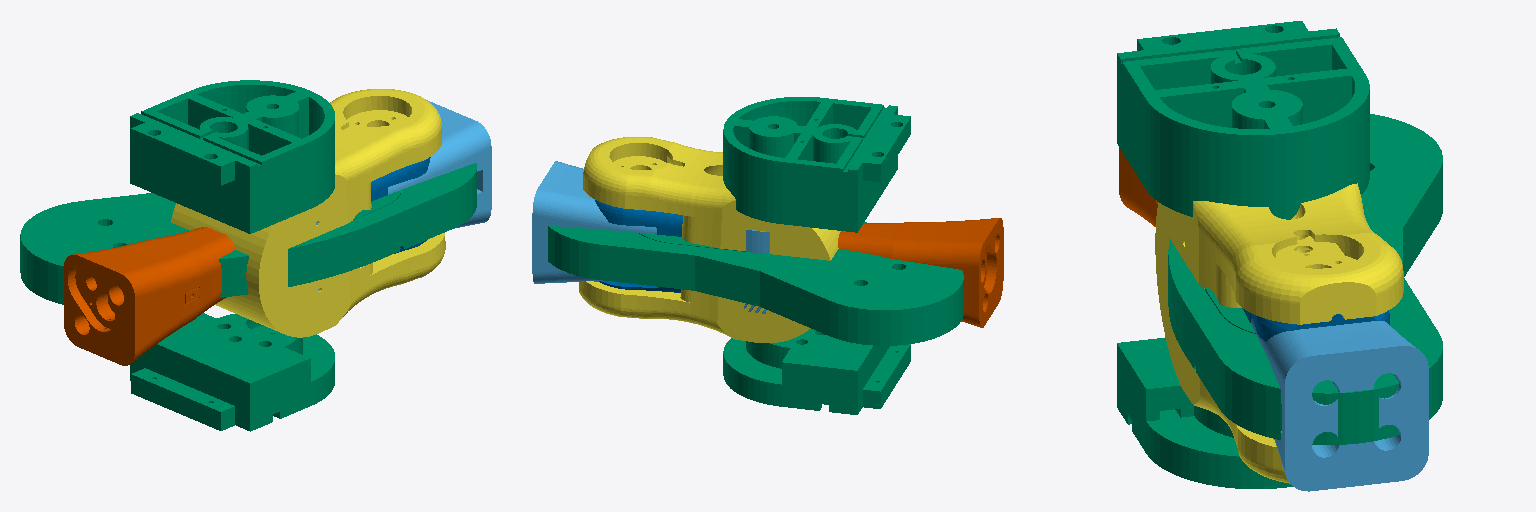
The robot description file, URDF, robot "tr1":
<robot name="tr1">
	<link name="base_link">
		<visual>
			<geometry>
        <mesh filename="package://tr1_description/meshes/base.dae" scale="0.1 0.1 0.1"/>
			</geometry>
			<origin rpy="0 0 3.1415" xyz="0.31 0.4595 -0.1115"/>
		</visual>
	</link>

	<link name="body_link">
		<visual>
			<geometry>
        <mesh filename="package://tr1_description/meshes/body.dae" scale="0.1 0.1 0.1"/>
			</geometry>
			<origin rpy="0 0 0" xyz="-0.3975 -0.17 -0.038"/>
		</visual>
	</link>

	<link name="arm1_link">
		<visual>
			<geometry>
        <mesh filename="package://tr1_description/meshes/arm1.dae" scale="0.1 0.1 0.1"/>
			</geometry>
			<origin rpy="1.5708 0 0" xyz="-0.073 0.0238 -0.14"/>
		</visual>
	</link>

	<link name="arm2_link">
		<visual>
			<geometry>
        <mesh filename="package://tr1_description/meshes/arm2.dae" scale="0.1 0.1 0.1"/>
			</geometry>
			<origin rpy="0 0 0" xyz="0 0 0"/>
		</visual>
	</link>

	<link name="arm4_link">
		<visual>
			<geometry>
        <mesh filename="package://tr1_description/meshes/arm4.dae" scale="0.1 0.1 0.1"/>
			</geometry>
			<origin rpy="0 0 0" xyz="0 0 0"/>
		</visual>
	</link>

	<link name="arm5_link">
		<visual>
			<geometry>
        <mesh filename="package://tr1_description/meshes/arm5.dae" scale="0.1 0.1 0.1"/>
			</geometry>
			<origin rpy="0 0 0" xyz="0 0 0"/>
		</visual>
	</link>

	<link name="arm6_link">
		<visual>
			<geometry>
        <mesh filename="package://tr1_description/meshes/arm6.dae" scale="0.1 0.1 0.1"/>
			</geometry>
			<origin rpy="0 0 0" xyz="0 0 0"/>
		</visual>
	</link>

	<link name="arm7_link">
		<visual>
			<geometry>
        <mesh filename="package://tr1_description/meshes/arm7.dae" scale="0.1 0.1 0.1"/>
			</geometry>
			<origin rpy="0 0 0" xyz="0 0 0"/>
		</visual>
	</link>

	<link name="arm8_link">
		<visual>
			<geometry>
        <mesh filename="package://tr1_description/meshes/arm8.dae" scale="0.1 0.1 0.1"/>
			</geometry>
			<origin rpy="0 0 0" xyz="0 0 0"/>
		</visual>
	</link>

	<link name="arm3_link">
		<visual>
			<geometry>
        <mesh filename="package://tr1_description/meshes/arm3.dae" scale="0.1 0.1 0.1"/>
			</geometry>
			<origin rpy="0 0 0" xyz="0 0 0"/>
		</visual>
	</link>

	<link name="neck_base_link">
		<visual>
			<geometry>
        <mesh filename="package://tr1_description/meshes/neck_base.dae" scale="0.1 0.1 0.1"/>
			</geometry>
			<origin rpy="1.57 0 0" xyz="0 0.103 -0.023"/>
		</visual>
	</link>

	<link name="neck_link">
		<visual>
			<geometry>
        <mesh filename="package://tr1_description/meshes/neck.dae" scale="0.1 0.1 0.1"/>
			</geometry>
			<origin rpy="1.57 0 0" xyz="0 0.096 -0.055"/>
		</visual>
	</link>

	<link name="head_link">
		<visual>
			<geometry>
        <mesh filename="package://tr1_description/meshes/head.dae" scale="0.1 0.1 0.1"/>
			</geometry>
			<origin rpy="1.8326 0 0" xyz="0 0.0434 -0.139"/>
		</visual>
	</link>

	<joint name="base_to_body" type="prismatic">
		<parent link="base_link"/>
		<child link="body_link"/>
    <axis xyz="0 0 1"/>
		<limit effort="1000.0" lower="0" upper="0.300" velocity="0.0001"/>
		<origin rpy="0 0 0" xyz="0 0 0.7955"/>
	</joint>

	<joint name="body_to_arm1" type="fixed">
		<parent link="body_link"/>
		<child link="arm1_link"/>
		<origin rpy="0 0 0.261799" xyz="0.155887 0.026656 0.2075"/>
	</joint>

	<joint name="arm1_to_arm2" type="fixed">
		<parent link="arm1_link"/>
		<child link="arm2_link"/>
		<origin rpy="0 0 0" xyz="0 0 0"/>
	</joint>

	<joint name="arm2_to_arm3" type="fixed">
		<parent link="arm2_link"/>
		<child link="arm3_link"/>
		<origin rpy="0 0 0" xyz="0 0.139238 0"/>
	</joint>

	<joint name="arm3_to_arm4" type="fixed">
		<parent link="arm3_link"/>
		<child link="arm4_link"/>
		<origin rpy="0 0 0" xyz="0 0 0"/>
	</joint>

	<joint name="arm4_to_arm5" type="fixed">
		<parent link="arm4_link"/>
		<child link="arm5_link"/>
		<origin rpy="0 0 0" xyz="0 0 0"/>
	</joint>

	<joint name="arm5_to_arm6" type="fixed">
		<parent link="arm5_link"/>
		<child link="arm6_link"/>
		<origin rpy="0 0 0" xyz="0 0 0"/>
	</joint>

	<joint name="arm6_to_arm7" type="fixed">
		<parent link="arm6_link"/>
		<child link="arm7_link"/>
		<origin rpy="0 0 0" xyz="0 0 0"/>
	</joint>

	<joint name="arm7_to_arm8" type="fixed">
		<parent link="arm7_link"/>
		<child link="arm8_link"/>
		<origin rpy="0 0 0" xyz="0 0 0"/>
	</joint>

	<joint name="body_to_neck_base" type="fixed">
		<parent link="body_link"/>
		<child link="neck_base_link"/>
		<origin rpy="0 0 0" xyz="0 0 0.365"/>
	</joint>

	<joint name="neck_base_to_neck" type="revolute">
		<parent link="neck_base_link"/>
		<child link="neck_link"/>
		<origin rpy="0 0 0" xyz="0 0 0.033"/>
    <axis xyz="0 0 1"/>
		<limit effort="1.0" lower="-3.1415" upper="3.1415" velocity="0.5"/>
	</joint>

	<joint name="neck_to_head" type="revolute">
		<parent link="neck_link"/>
		<child link="head_link"/>
		<origin rpy="0 0 0" xyz="0 0.090789 0.09"/>
    <axis xyz="1 0 0"/>
		<limit effort="1.0" lower="-0.9" upper="0.4" velocity="0.5"/>
	</joint>

</robot>

--- Render facts (derived) ---
The picture shows the robot from 3 angles, left to right: view 1: azimuth 30°, elevation 25°; view 2: azimuth 150°, elevation 25°; view 3: azimuth 270°, elevation 25°; orthographic projection.
Robot: tr1 — 13 links, 12 joints (2 revolute, 1 prismatic, 9 fixed); root link base_link; default pose: every joint at zero.
Visible links, largest first — view 1: arm1_link, arm2_link, neck_base_link, arm5_link, arm3_link, arm4_link; view 2: arm1_link, neck_base_link, arm2_link, arm5_link, arm3_link, arm4_link; view 3: arm1_link, arm2_link, neck_base_link, arm3_link, arm5_link, arm4_link.
Link boxes in pixels (x1=…): arm1_link: x1=130, y1=80, x2=334, y2=431; arm2_link: x1=171, y1=89, x2=445, y2=337; neck_base_link: x1=20, y1=163, x2=476, y2=304; arm5_link: x1=64, y1=227, x2=235, y2=365; arm3_link: x1=316, y1=100, x2=491, y2=290; arm4_link: x1=371, y1=157, x2=430, y2=253; arm1_link: x1=723, y1=97, x2=910, y2=414; neck_base_link: x1=548, y1=222, x2=963, y2=345; arm2_link: x1=579, y1=137, x2=840, y2=342; arm5_link: x1=838, y1=218, x2=1003, y2=327; arm3_link: x1=532, y1=161, x2=770, y2=313; arm4_link: x1=595, y1=200, x2=682, y2=292; arm1_link: x1=1117, y1=21, x2=1369, y2=488; arm2_link: x1=1155, y1=183, x2=1403, y2=483; neck_base_link: x1=1168, y1=114, x2=1442, y2=444; arm3_link: x1=1251, y1=318, x2=1428, y2=491; arm5_link: x1=1119, y1=148, x2=1157, y2=226; arm4_link: x1=1242, y1=308, x2=1389, y2=341.
Bounding box of the posed robot: 48.13 × 22.96 × 27.5 m (x, y, z).
8 mesh visuals loaded from 13 distinct referenced files (8 Collada DAE); not drawn: 4 (reference not matched to a file when rendering), 1 (file found but could not be loaded).